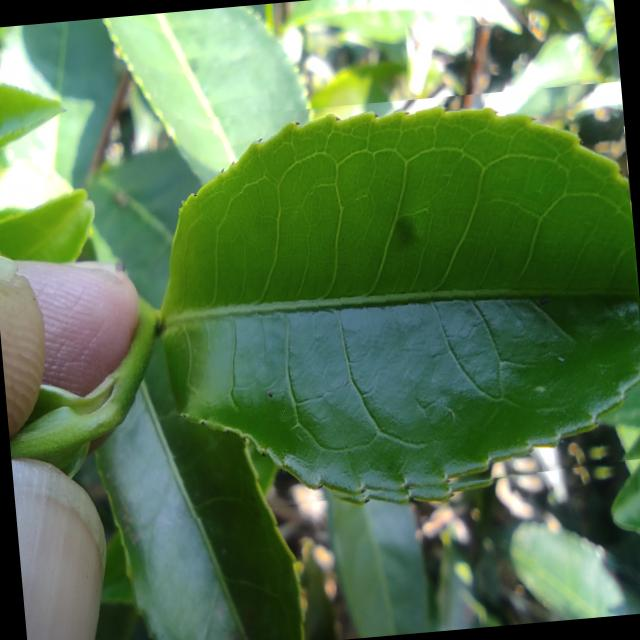Category C(4-7 days): (111, 81, 640, 524)
